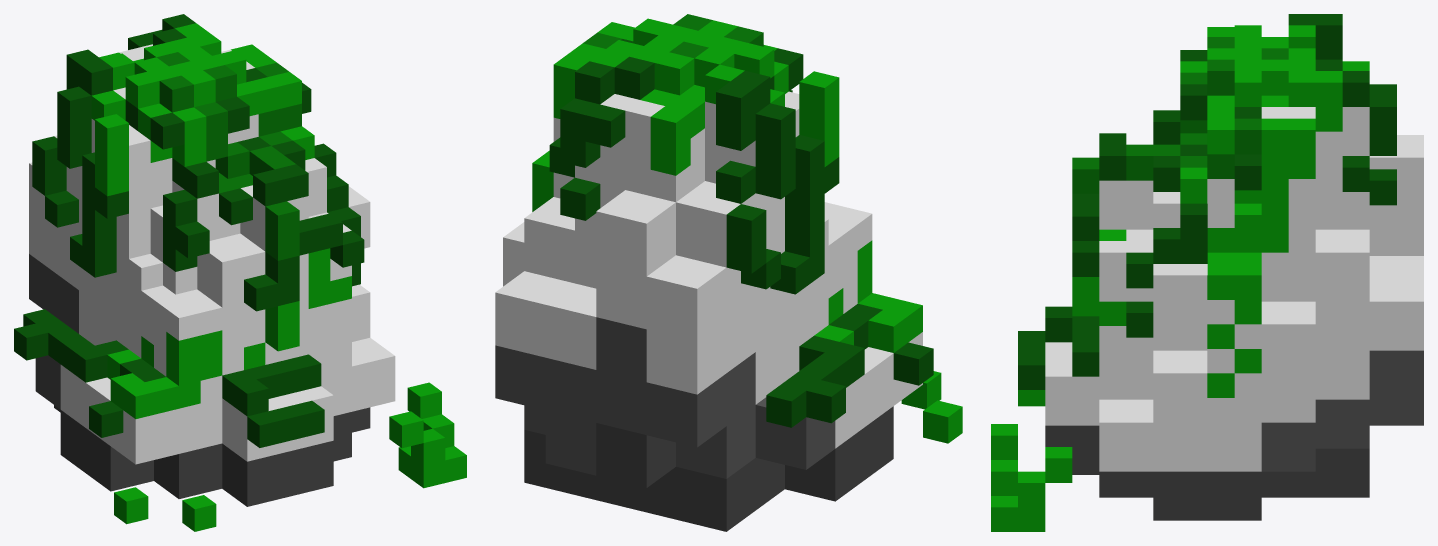
The model's file is rock.obj.
3 renders of one model, left to right at view 1: azimuth 30°, elevation 25°; view 2: azimuth 150°, elevation 25°; view 3: azimuth 270°, elevation 25°, orthographic. The views are drawn at different scales.
Parts seen in each view (by area): view 1: rock; view 2: rock; view 3: rock.
Part boxes in pixels (x1,y1,x2,y2): rock: [14, 14, 466, 531]; rock: [495, 14, 962, 531]; rock: [991, 14, 1423, 531].
Size of the model in its own units: 14 by 16 by 16.
Materials: 1 (1 with a texture image).
